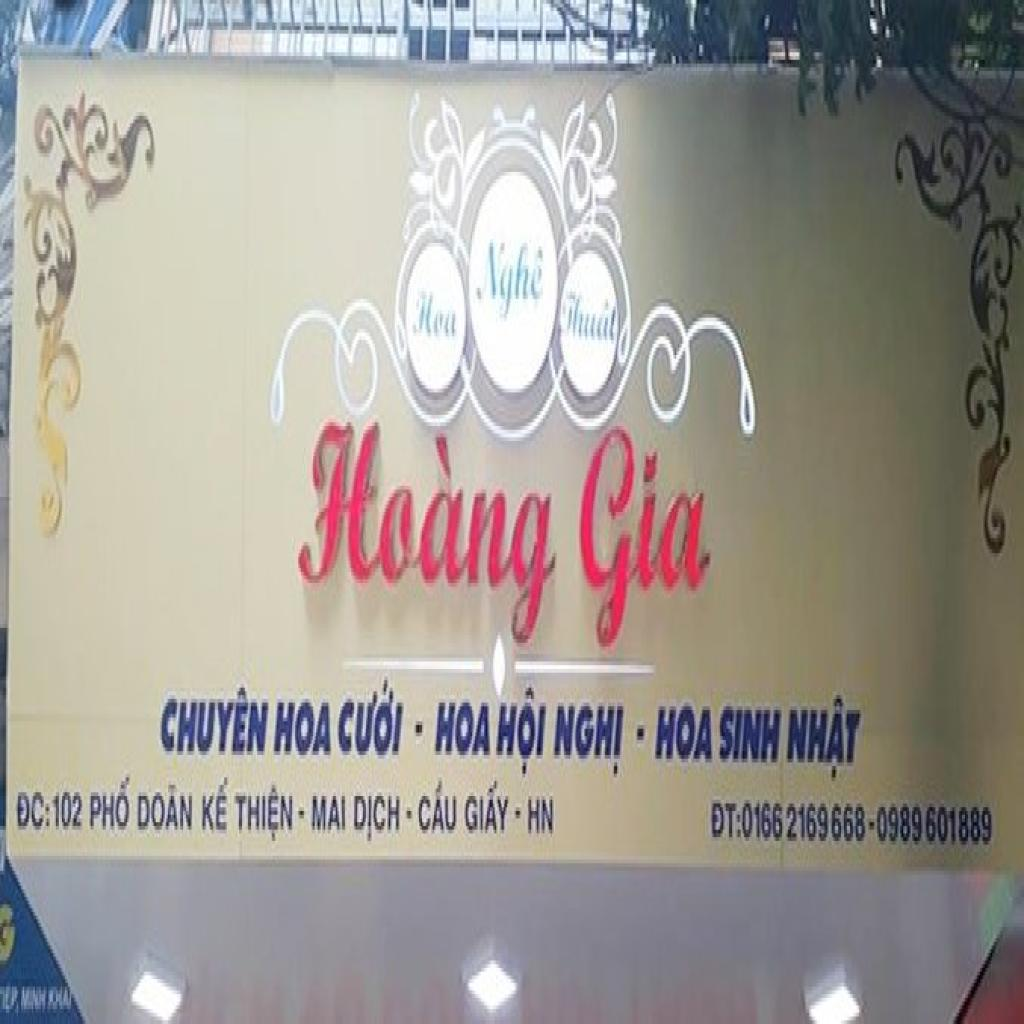text: (289, 411, 566, 658), (573, 415, 726, 669), (154, 680, 272, 762), (472, 239, 552, 333), (784, 691, 864, 785), (336, 677, 408, 766), (552, 702, 626, 784), (742, 800, 866, 848), (493, 680, 549, 781), (230, 781, 295, 848), (654, 702, 716, 770), (271, 699, 333, 762), (717, 706, 782, 766), (558, 288, 620, 348), (432, 702, 492, 762), (463, 773, 511, 841), (136, 781, 194, 837), (88, 770, 133, 837), (410, 288, 458, 348), (352, 792, 402, 848), (417, 781, 460, 837), (198, 774, 230, 837), (15, 785, 53, 837), (308, 792, 348, 841), (50, 789, 83, 837), (526, 792, 557, 841), (711, 800, 743, 841), (0, 897, 18, 968), (18, 986, 47, 1012), (49, 986, 74, 1016)
